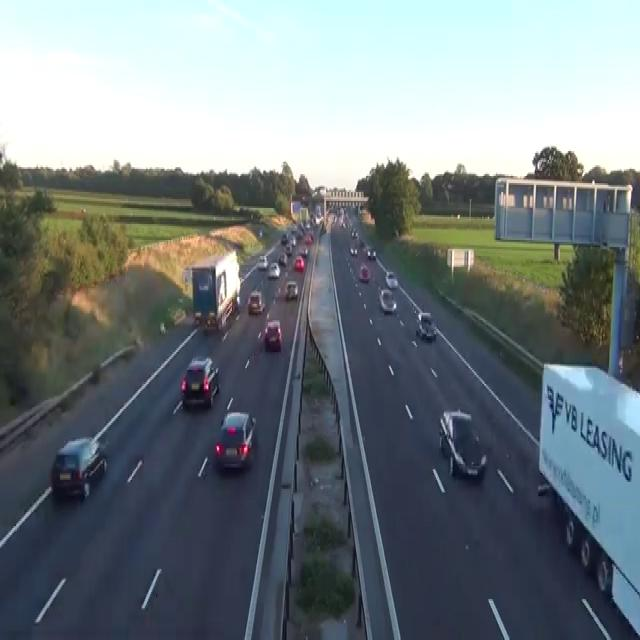Car: (556, 494, 613, 594), (50, 436, 107, 500), (438, 409, 487, 478), (215, 411, 256, 469), (180, 354, 219, 407), (416, 311, 437, 340), (264, 318, 282, 350), (378, 286, 396, 313), (247, 290, 265, 314), (204, 311, 217, 333), (285, 279, 298, 299), (172, 308, 186, 326), (385, 270, 398, 288), (358, 263, 370, 281), (267, 262, 280, 278), (256, 254, 268, 270), (418, 311, 431, 324), (294, 254, 304, 270), (278, 252, 287, 265), (298, 245, 308, 256), (367, 247, 375, 260), (194, 311, 201, 325), (285, 242, 292, 256), (304, 233, 313, 243), (159, 322, 166, 334), (280, 233, 288, 243), (350, 245, 357, 256), (359, 238, 365, 249), (351, 226, 357, 236), (290, 235, 296, 245), (320, 224, 326, 233), (178, 297, 183, 304), (259, 228, 262, 236)
Truck: (537, 361, 639, 638), (190, 249, 240, 332)
